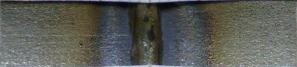soldas: (98, 2, 215, 67)
